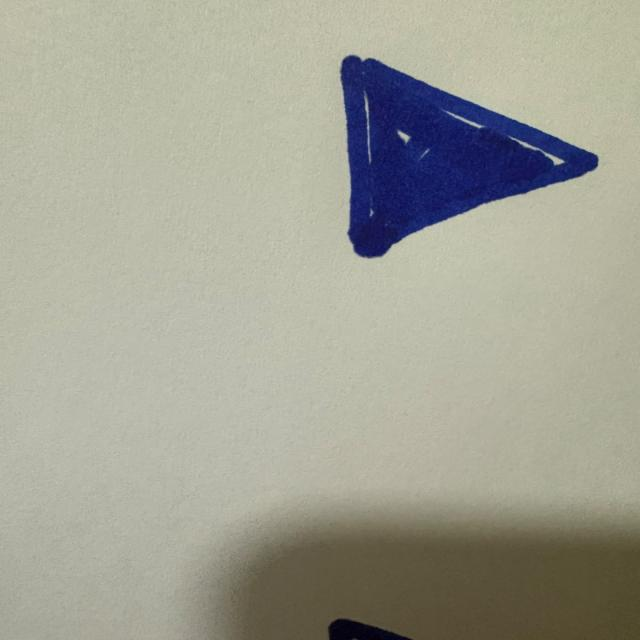Triangle: (341, 56, 598, 258)
